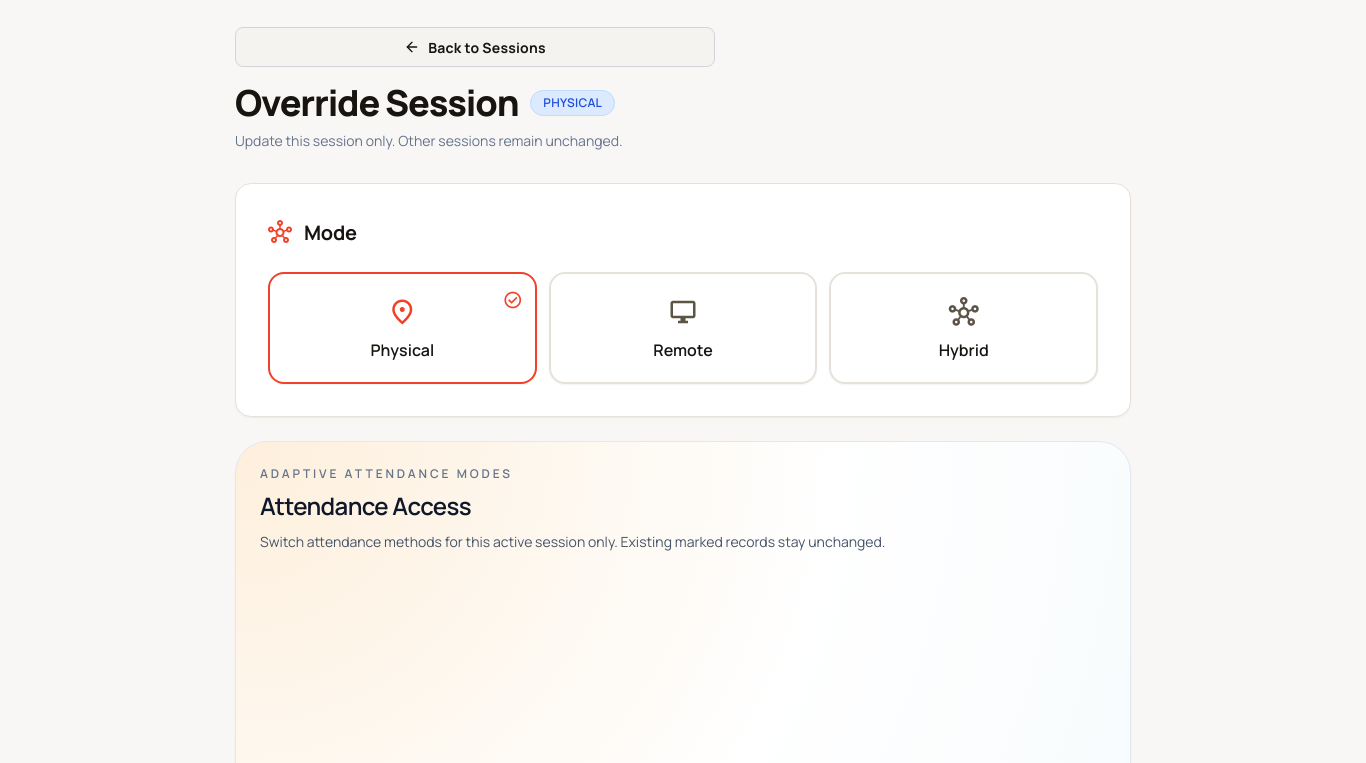
SessionOverride › shows confirmation dialog when mode changes
Expected: the text "Override Session" is shown, [235,83,518,123]
Click the text "Remote": (683, 350) [653,338,713,362]
(page scrolled)
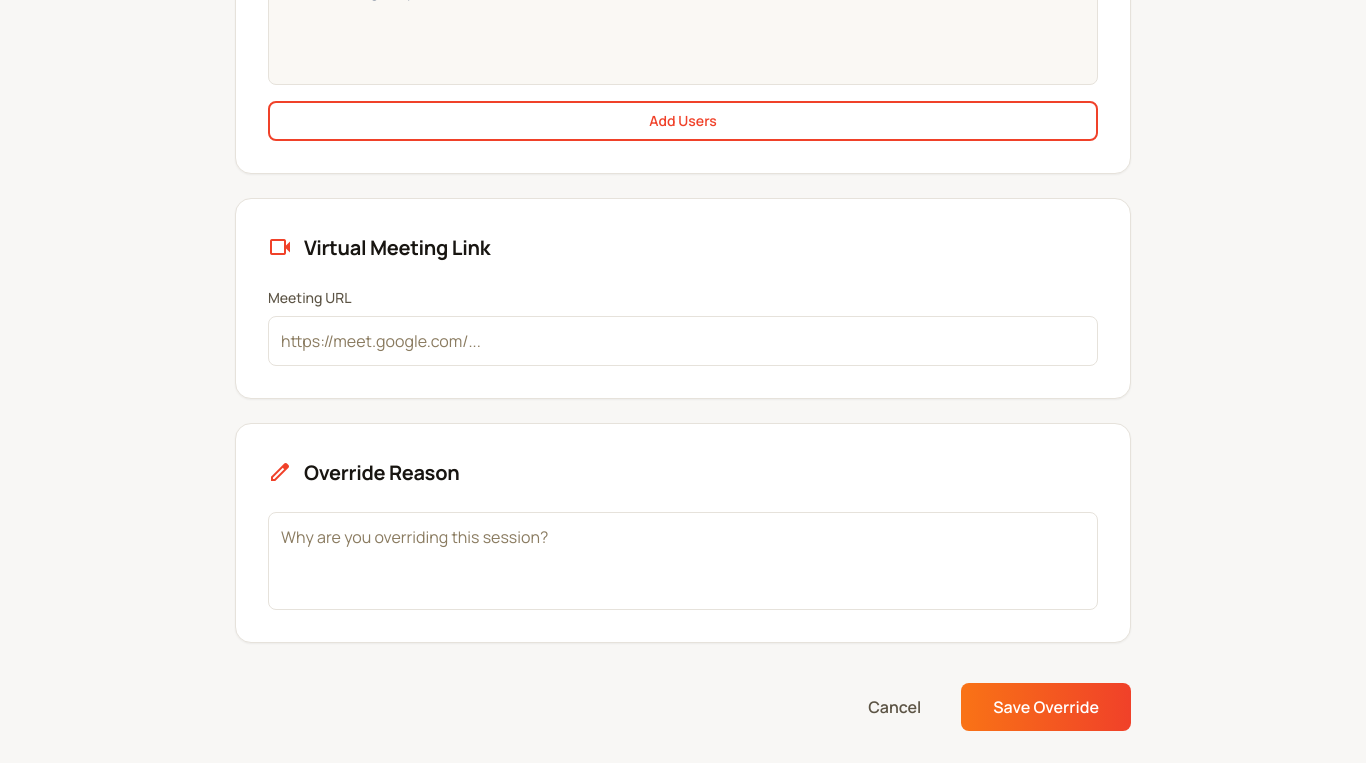
In the text box with placeholder "Why are you overriding this session?": (683, 561) [268,512,1098,610], type "Mode change for remote session."
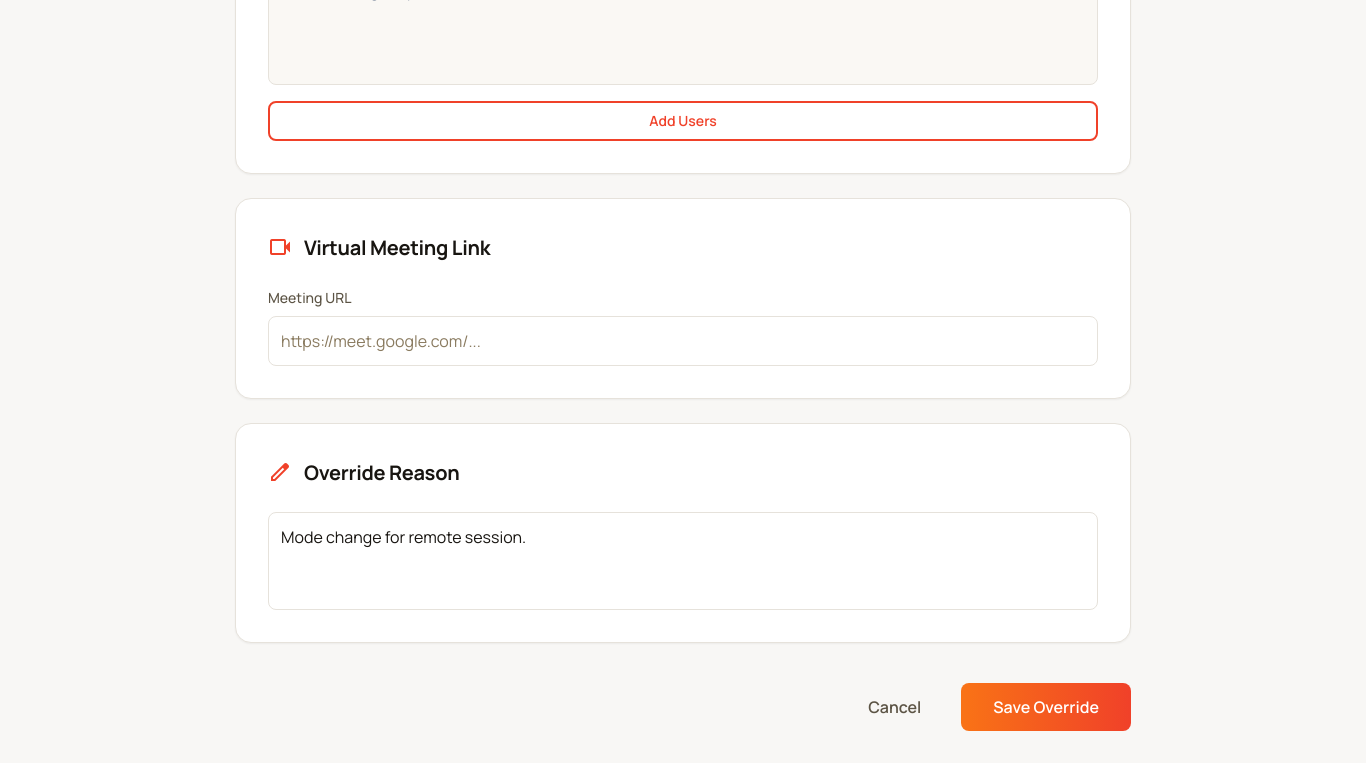
Click the button "Save Override": (1046, 707) [961,683,1131,731]
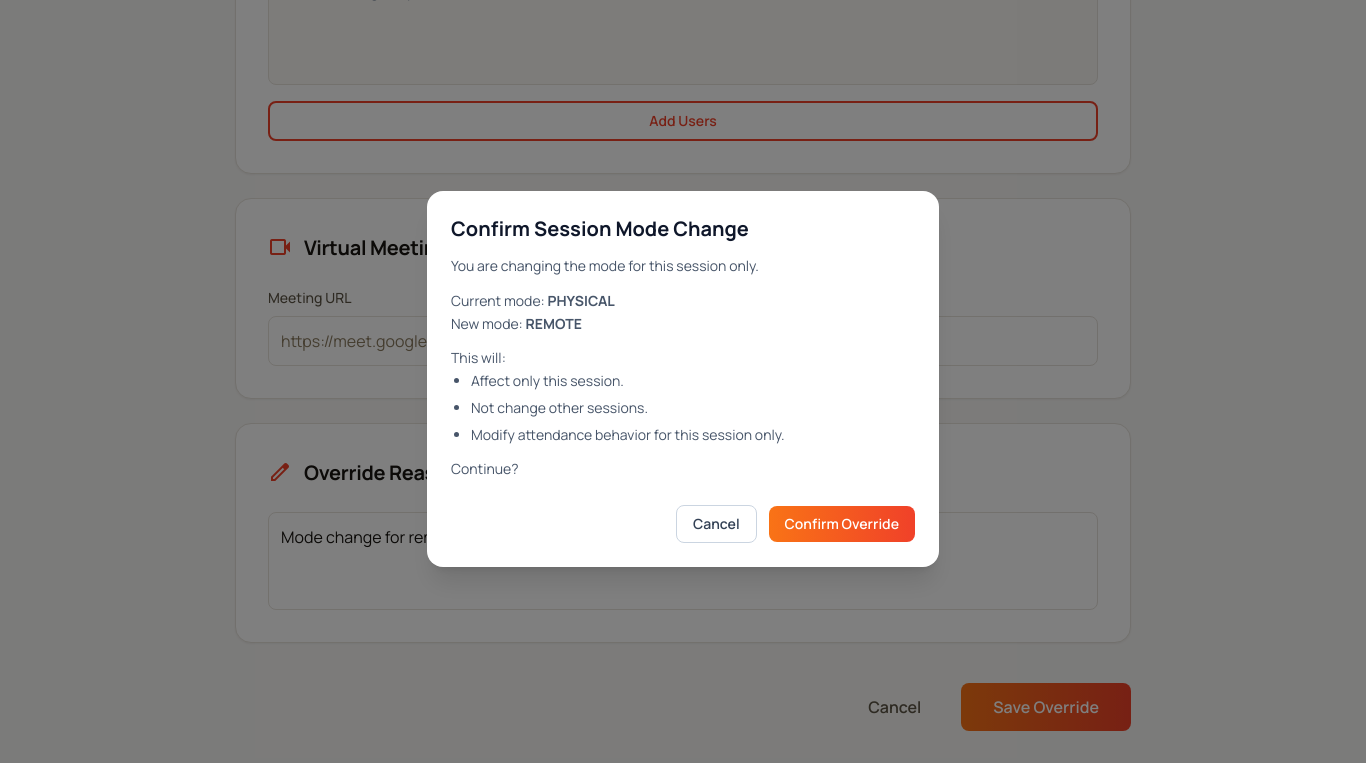
Result: the heading "Confirm Session Mode Change" is shown at [451,215,749,242]
